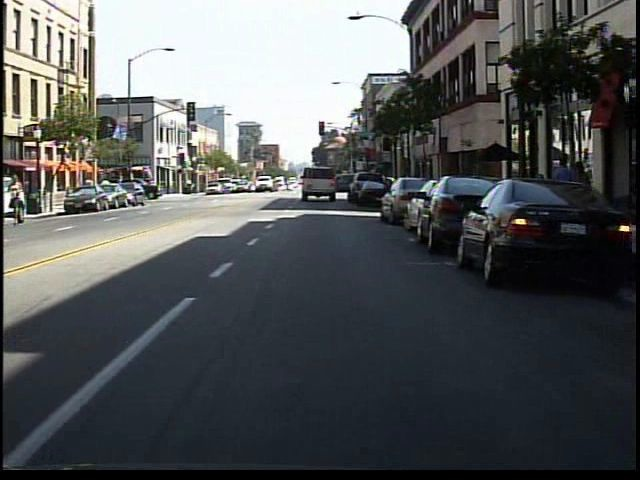person: (547, 153, 575, 233), (571, 157, 595, 229), (7, 169, 31, 231)
